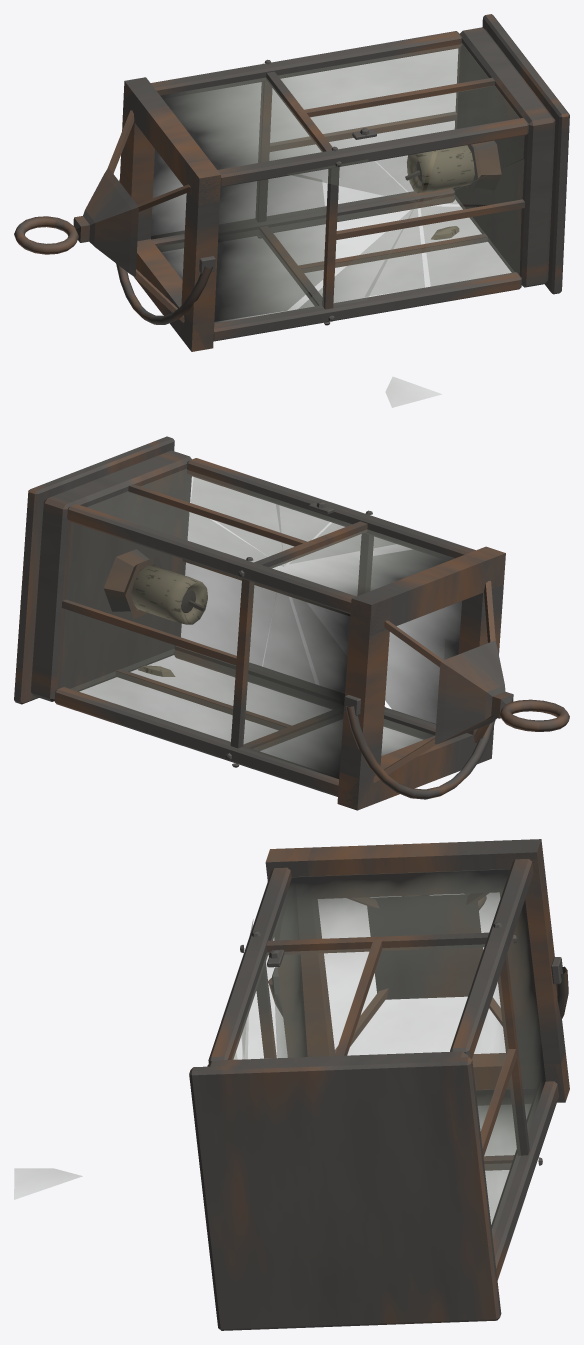
The model's file is lamp_dropped.glb.
3 renders of one model, top to bottom at view 1: azimuth 30°, elevation 25°; view 2: azimuth 150°, elevation 25°; view 3: azimuth 270°, elevation 25°, orthographic. The views are drawn at different scales.
Visible parts, largest first — view 1: lamp_dropped; view 2: lamp_dropped; view 3: lamp_dropped.
Boxes of the visible parts, <box> form: lamp_dropped: <box>14,14,569,407</box>; lamp_dropped: <box>14,436,569,810</box>; lamp_dropped: <box>14,839,569,1330</box>.
Size of the model in its own units: 0.3188 by 0.1303 by 0.2308.
Materials: 2 (2 with a texture image).
